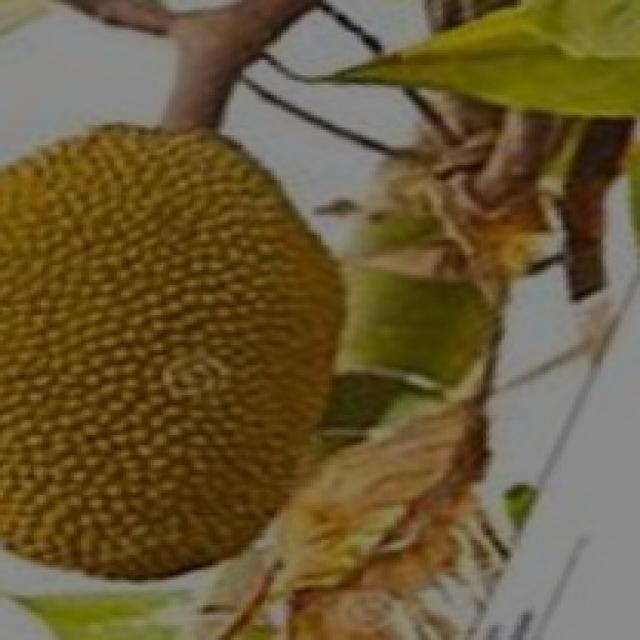Fruit: (0, 225, 382, 627), (0, 97, 382, 425)
